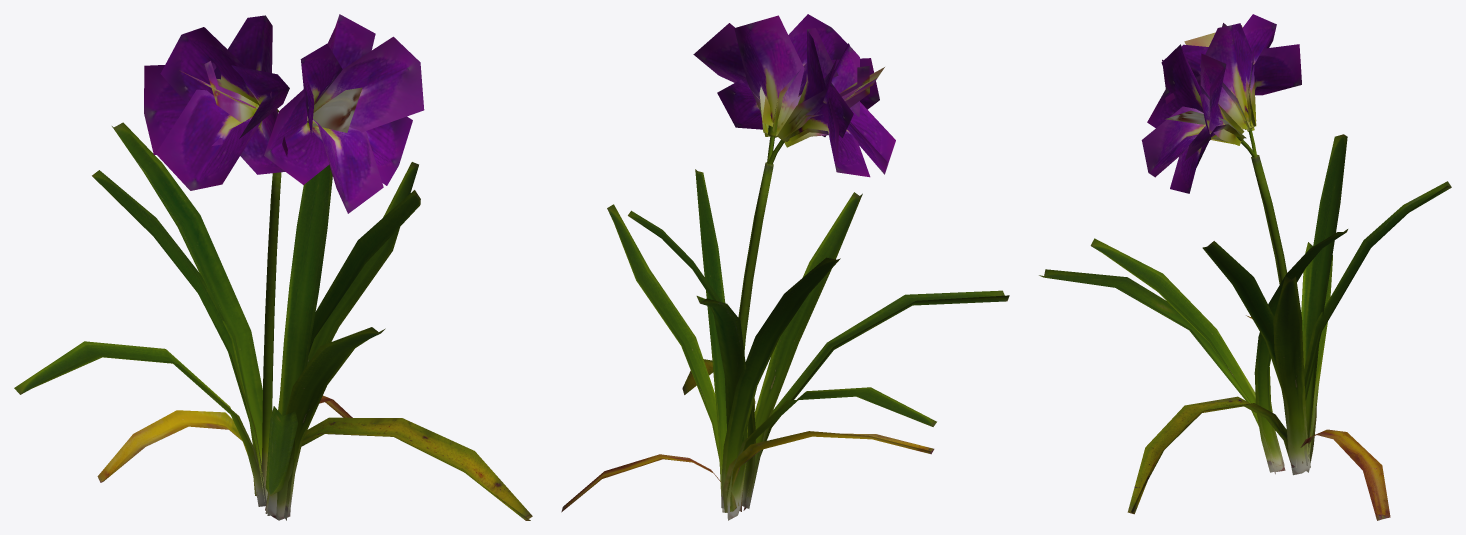
File: Amaryllis_OG_normal_purple.glb
3 views of the same model, side by side, from view 1: azimuth 30°, elevation 25°; view 2: azimuth 150°, elevation 25°; view 3: azimuth 270°, elevation 25° (orthographic). The views are drawn at different scales.
Visible parts, largest first — view 1: og; view 2: og; view 3: og.
Boxes of the visible parts, x1,y1,x2,y2 form: og: (14, 14, 532, 520); og: (561, 14, 1009, 520); og: (1039, 14, 1451, 520).
Bounding box in the file's own units: 1.36 × 1.74 × 1.51.
1 material, 1 textured.
